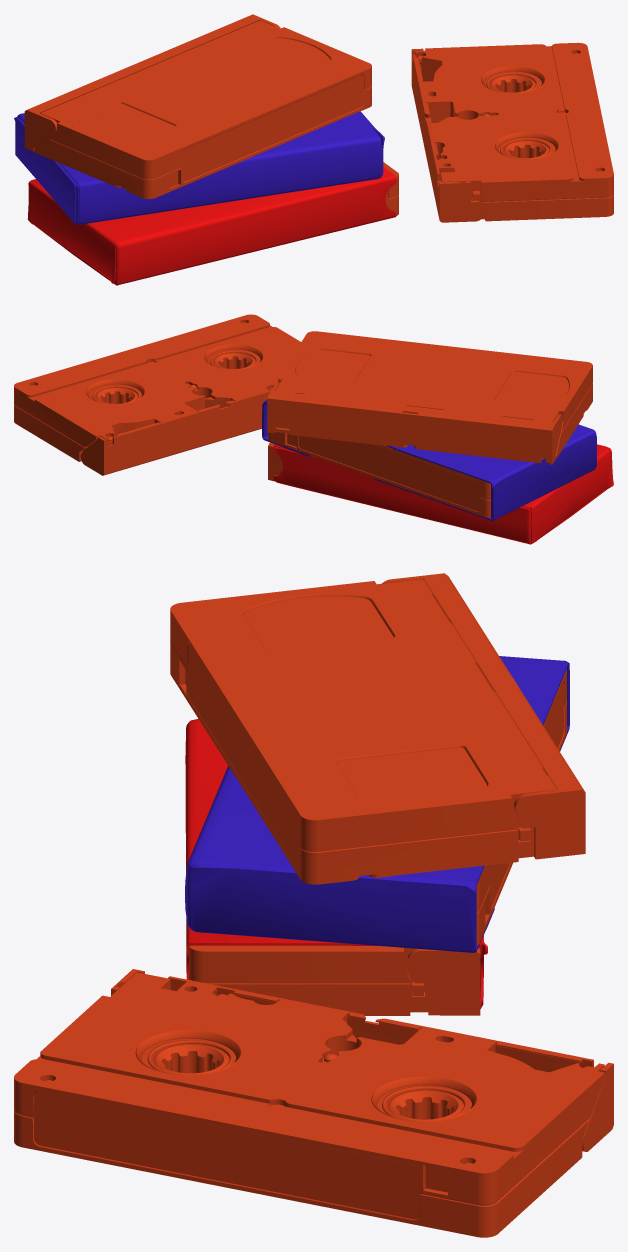
The model's file is Sketchfab.fbx.
3 views of the same model, one above another, from view 1: azimuth 30°, elevation 25°; view 2: azimuth 150°, elevation 25°; view 3: azimuth 270°, elevation 25° (orthographic). The views are drawn at different scales.
Parts seen in each view (by area): view 1: Plane008; view 2: Plane008; view 3: Plane008.
Part boxes in pixels (x1,y1,x2,y2): Plane008: [14, 14, 613, 285]; Plane008: [14, 314, 613, 544]; Plane008: [14, 573, 613, 1237].
Bounding box in the file's own units: 38.45 × 7.94 × 21.06.
